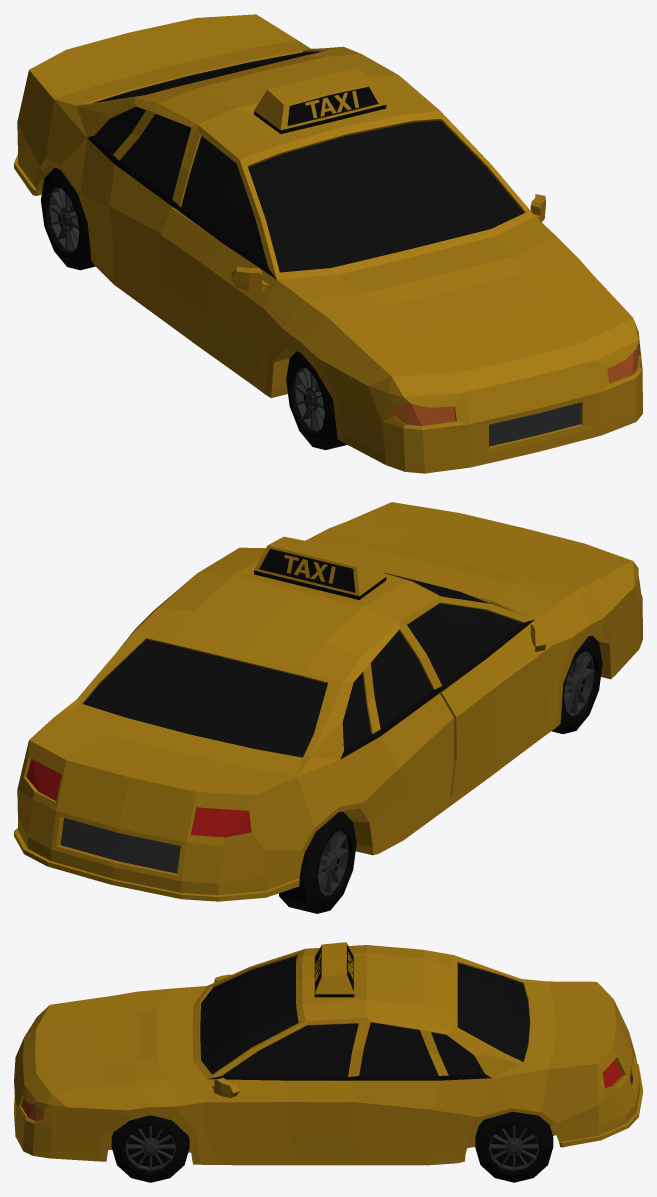
File: taxi.glb
3 renders of one model, top to bottom at view 1: azimuth 30°, elevation 25°; view 2: azimuth 150°, elevation 25°; view 3: azimuth 270°, elevation 25°, orthographic. The views are drawn at different scales.
Visible parts, largest first — view 1: Taxi_Cube.009, Taxi_BackWheels_Cube.010, Taxi_FrontRightWheel_Cube.014; view 2: Taxi_Cube.009, Taxi_BackWheels_Cube.010, Taxi_FrontRightWheel_Cube.014; view 3: Taxi_Cube.009, Taxi_BackWheels_Cube.010, Taxi_FrontLeftWheel_Cube.013.
Part boxes in pixels (x1,y1,x2,y2): Taxi_Cube.009: [14, 14, 642, 473]; Taxi_BackWheels_Cube.010: [41, 168, 95, 270]; Taxi_FrontRightWheel_Cube.014: [286, 351, 346, 450]; Taxi_Cube.009: [14, 502, 642, 901]; Taxi_BackWheels_Cube.010: [278, 811, 356, 913]; Taxi_FrontRightWheel_Cube.014: [552, 635, 602, 733]; Taxi_Cube.009: [14, 942, 642, 1165]; Taxi_BackWheels_Cube.010: [475, 1111, 553, 1182]; Taxi_FrontLeftWheel_Cube.013: [111, 1115, 189, 1182].
Bounding box in the file's own units: 1.81 × 1.31 × 4.22.
